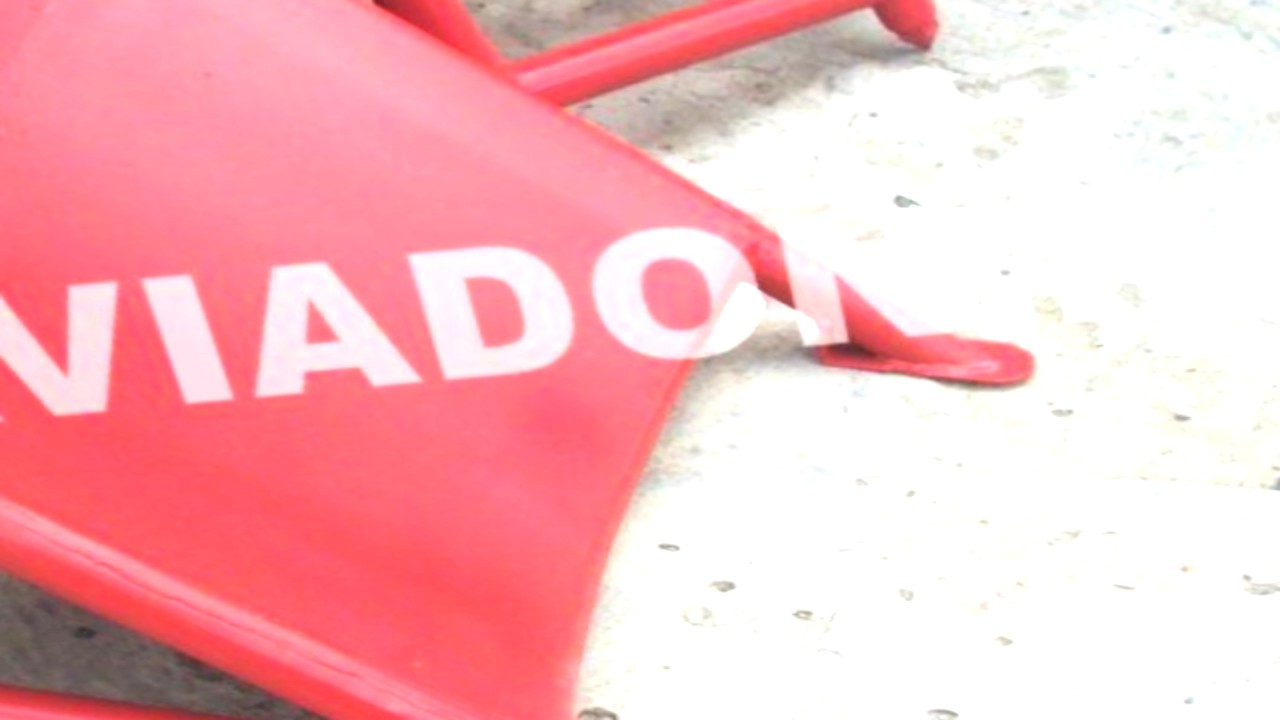chock: (0, 0, 1252, 720), (0, 0, 986, 140)
